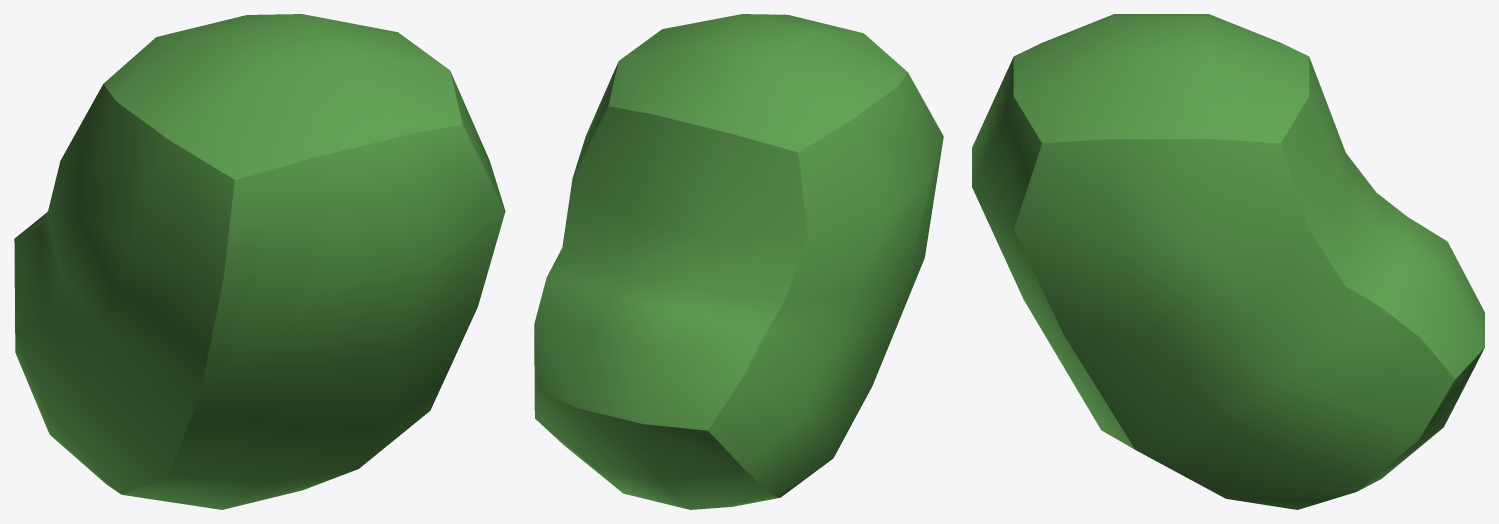
The model's file is BeanModel.fbx.
The picture shows the model from 3 angles, left to right: view 1: azimuth 30°, elevation 25°; view 2: azimuth 150°, elevation 25°; view 3: azimuth 270°, elevation 25°; orthographic projection. The views are drawn at different scales.
Visible parts, largest first — view 1: BeanPod; view 2: BeanPod; view 3: BeanPod.
Boxes of the visible parts, x1=… form: BeanPod: x1=14, y1=14, x2=505, y2=509; BeanPod: x1=534, y1=14, x2=943, y2=509; BeanPod: x1=972, y1=14, x2=1484, y2=509.
Bounding box in the file's own units: 0.3662 × 0.4827 × 0.4958.
